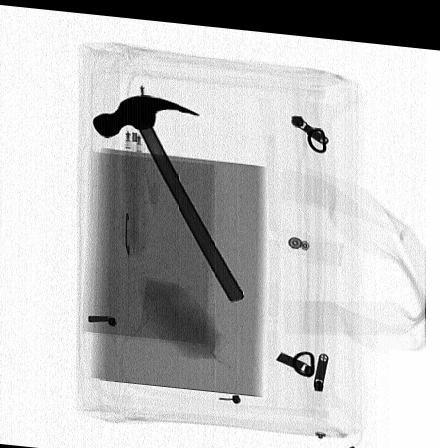Hammer: (93, 91, 245, 297)
